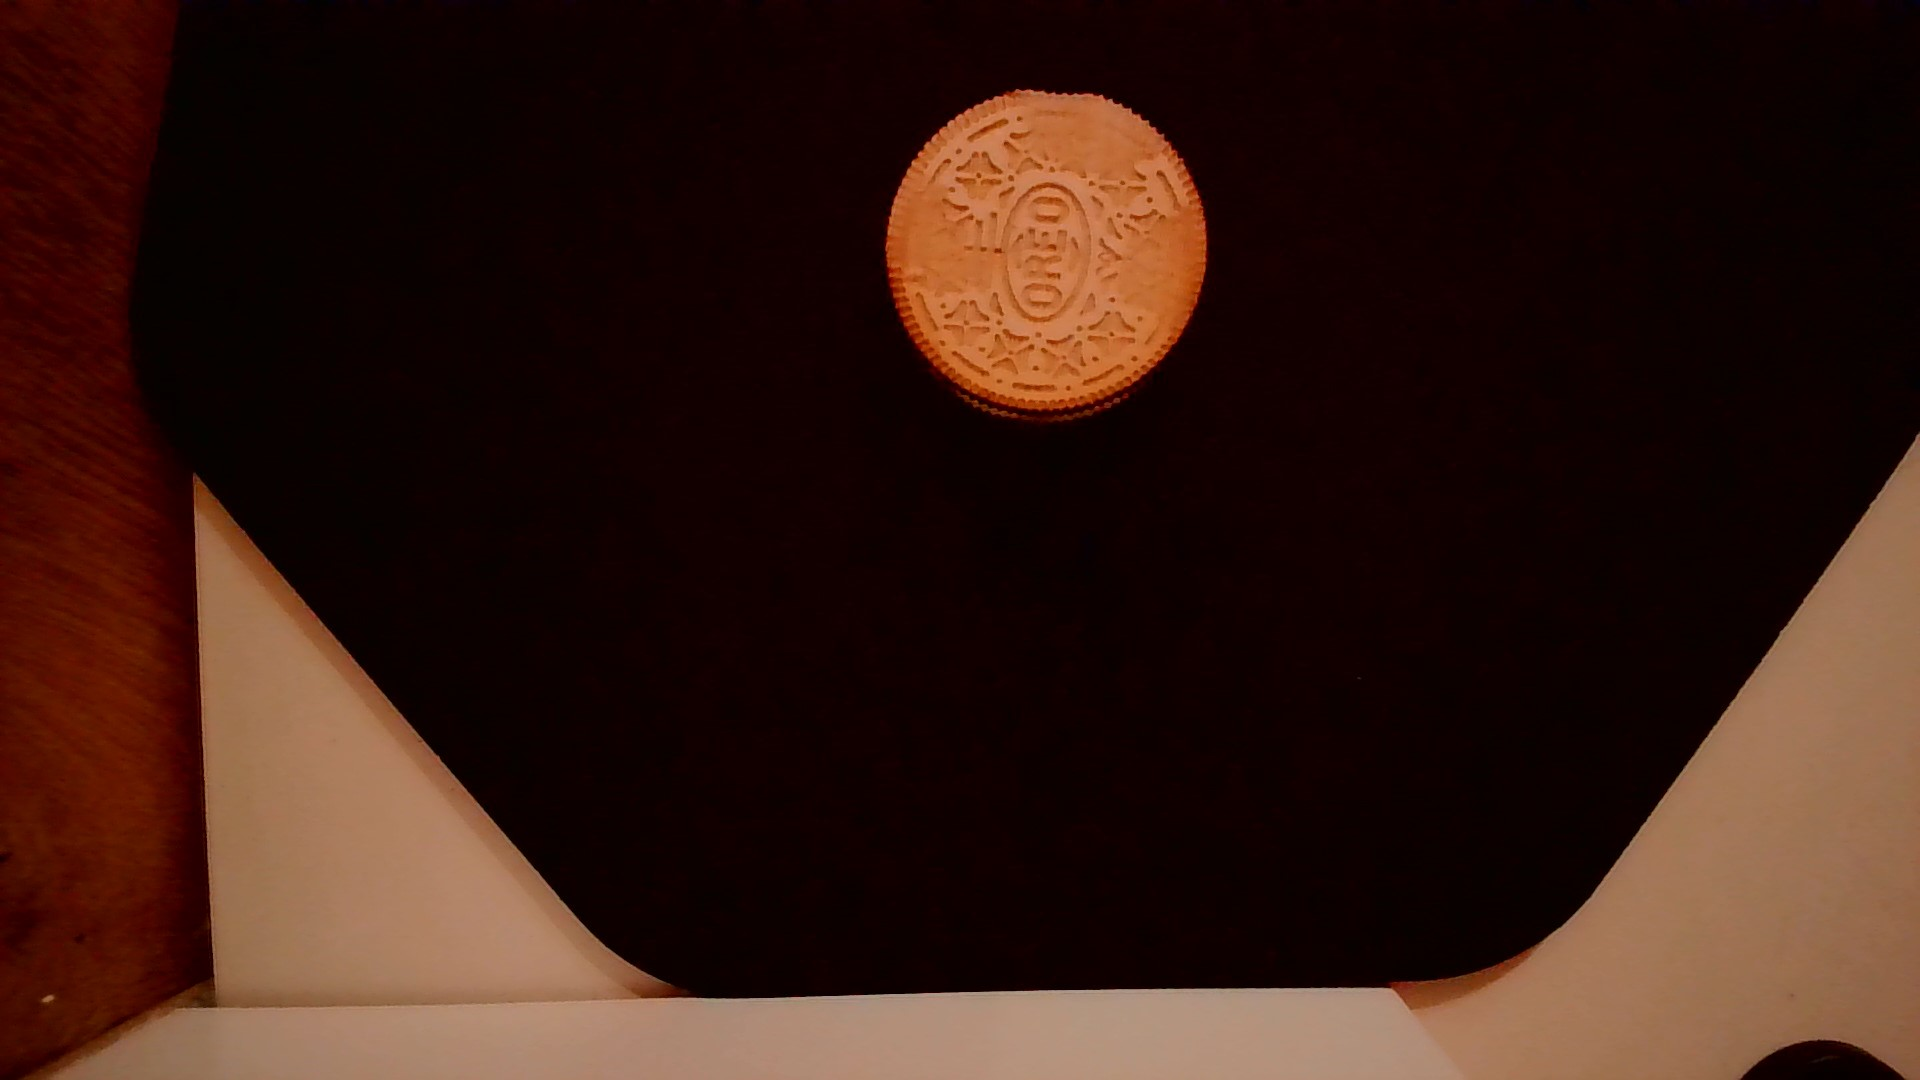Effacé: (890, 182, 986, 291), (1015, 98, 1127, 167), (1139, 210, 1199, 316)
Oréo: (878, 79, 1216, 431)
